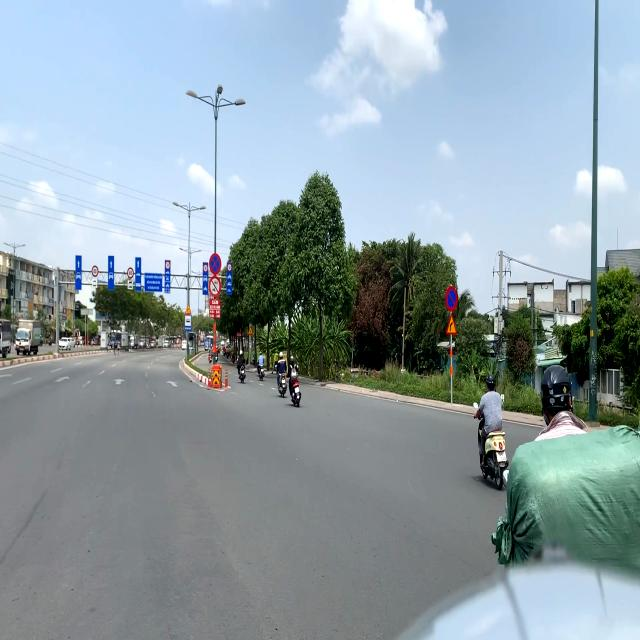P.127: (127, 267, 134, 279), (92, 265, 98, 277), (165, 260, 170, 270), (203, 264, 208, 272), (227, 264, 232, 272)
P.130: (209, 253, 222, 275)
P.131a: (445, 285, 458, 312)
R.434: (184, 315, 192, 331)
W.201b: (446, 313, 458, 335), (185, 303, 192, 314)
